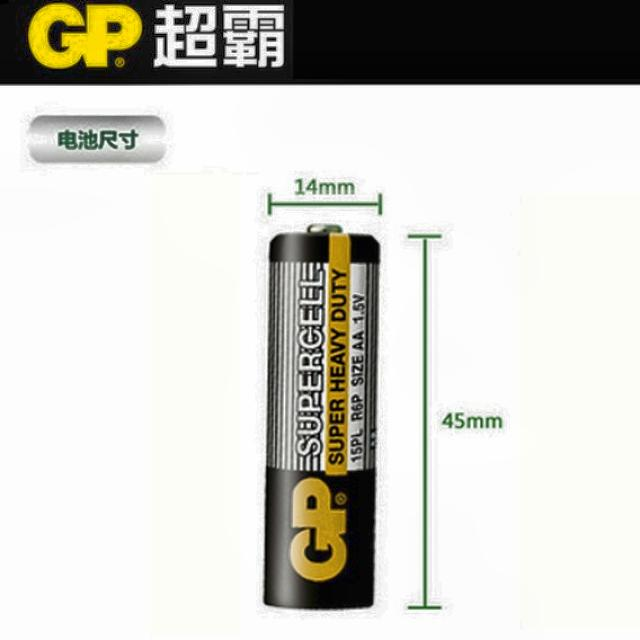Non-Valuable Waste - Batteries: (264, 225, 379, 609)
